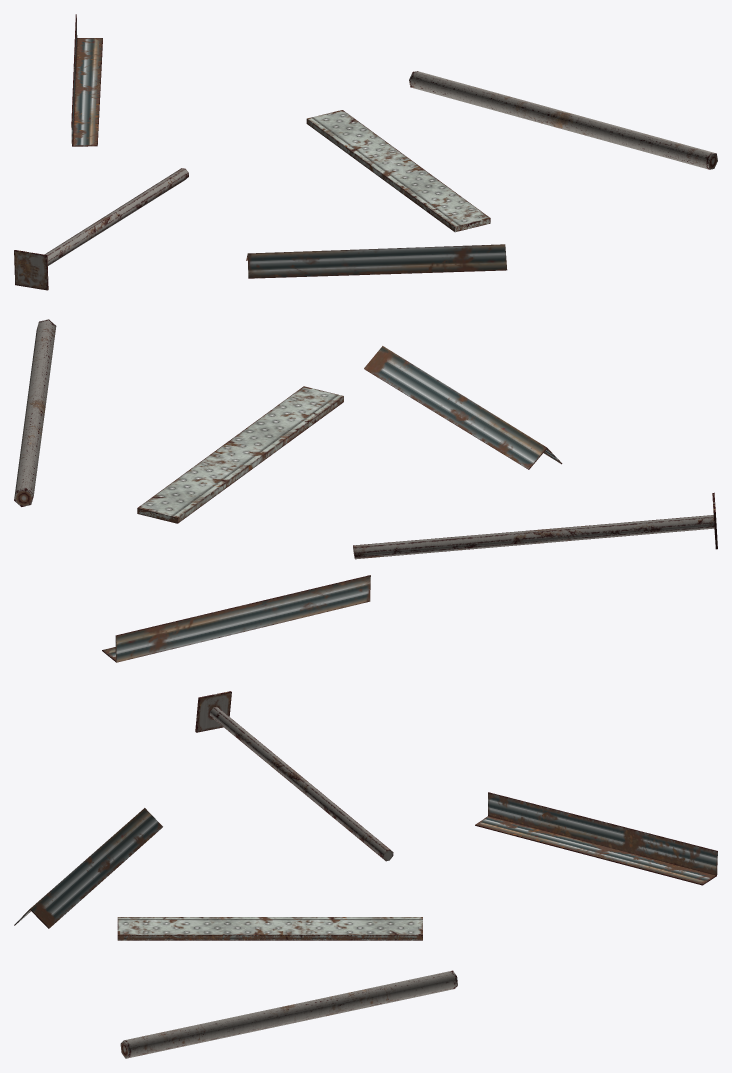
File: ScrapMetal_C.fbx
The picture shows the model from 3 angles, top to bottom: view 1: azimuth 30°, elevation 25°; view 2: azimuth 150°, elevation 25°; view 3: azimuth 270°, elevation 25°; orthographic projection. The views are drawn at different scales.
Visible parts, largest first — view 1: ScrapMetal_C_LOD0; view 2: ScrapMetal_C_LOD0; view 3: ScrapMetal_C_LOD0.
Boxes of the visible parts, x1,y1,x2,y2 form: ScrapMetal_C_LOD0: [14, 14, 717, 290]; ScrapMetal_C_LOD0: [14, 319, 717, 662]; ScrapMetal_C_LOD0: [14, 691, 717, 1058].
Size of what is drawn, in the model's own units: 296 by 20.26 by 267.
